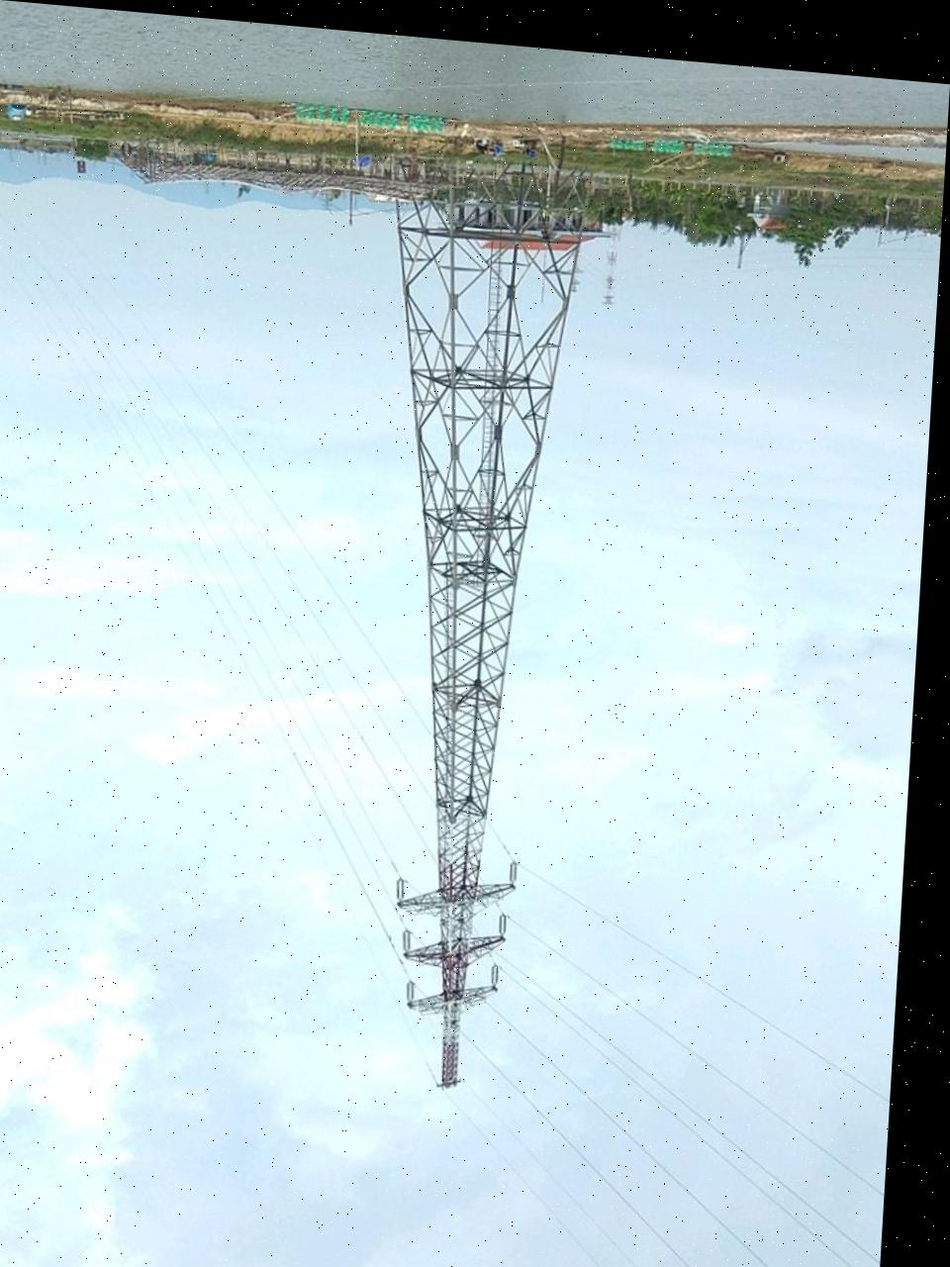tower: (304, 111, 602, 1120)
